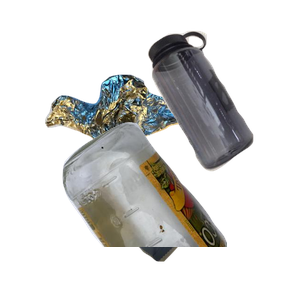glass: (60, 120, 300, 300)
metal: (42, 72, 239, 229)
plastic: (145, 28, 300, 192)
trash: (95, 157, 282, 300)
